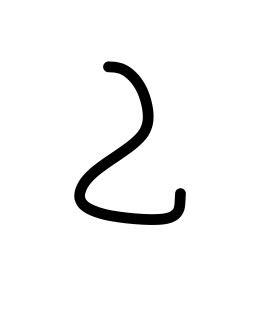s: (64, 160, 225, 240)
